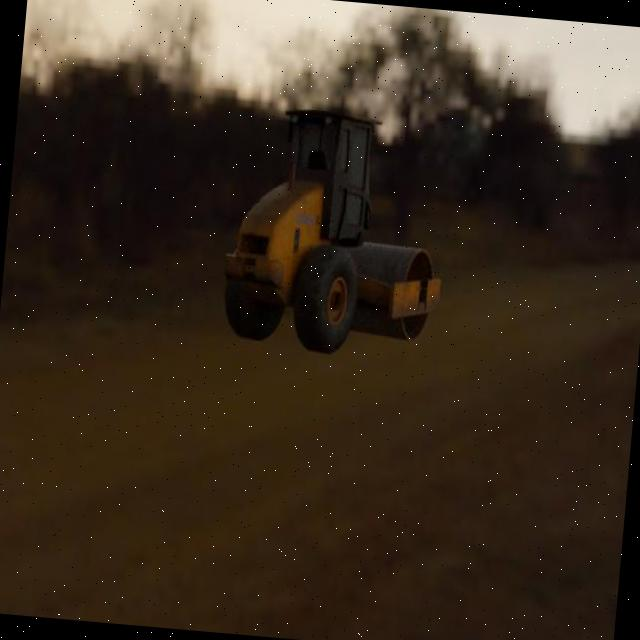Roller: (216, 102, 454, 364)
